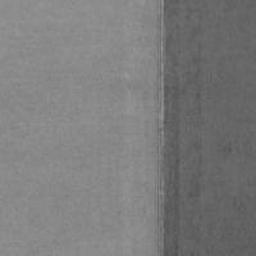Welding line: (155, 0, 165, 256)
